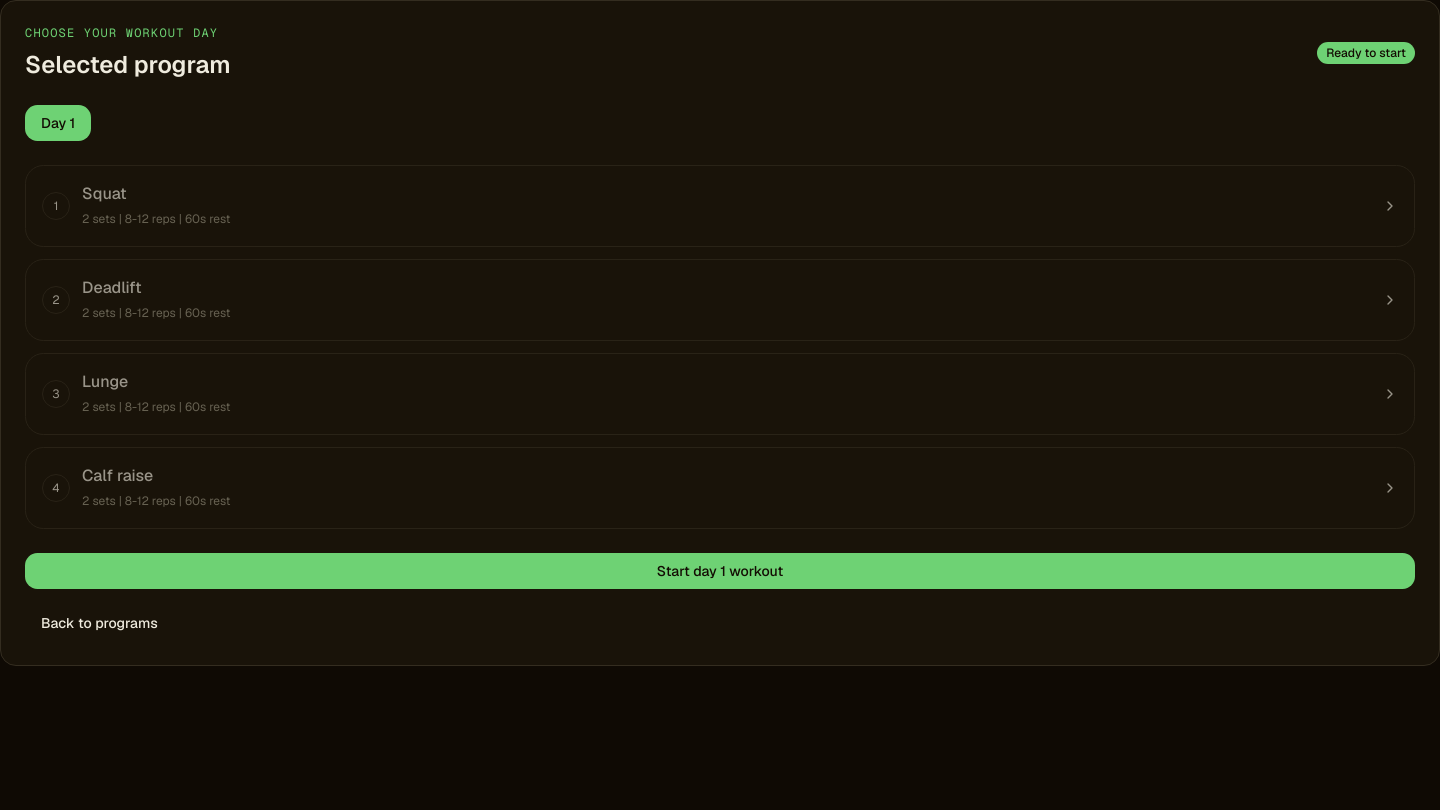
Test: workout interaction › keeps the session active after a failed finish and allows retrying
Later steps or results of the test are not shown.
Click the button "Start day 1 workout" at (720, 571), box [25,553,1415,589]
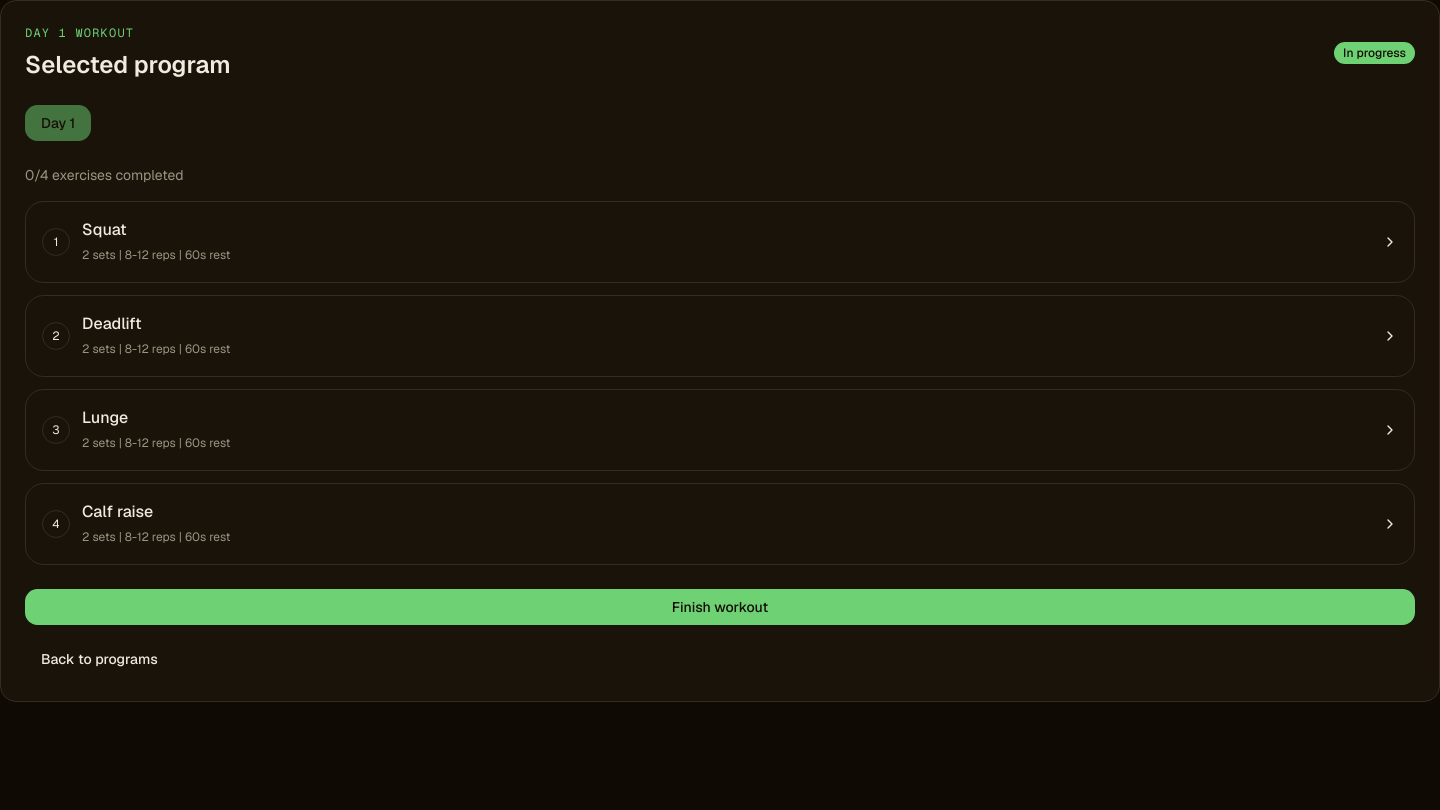
Click the button "Finish workout" at (720, 607), box [25,589,1415,625]
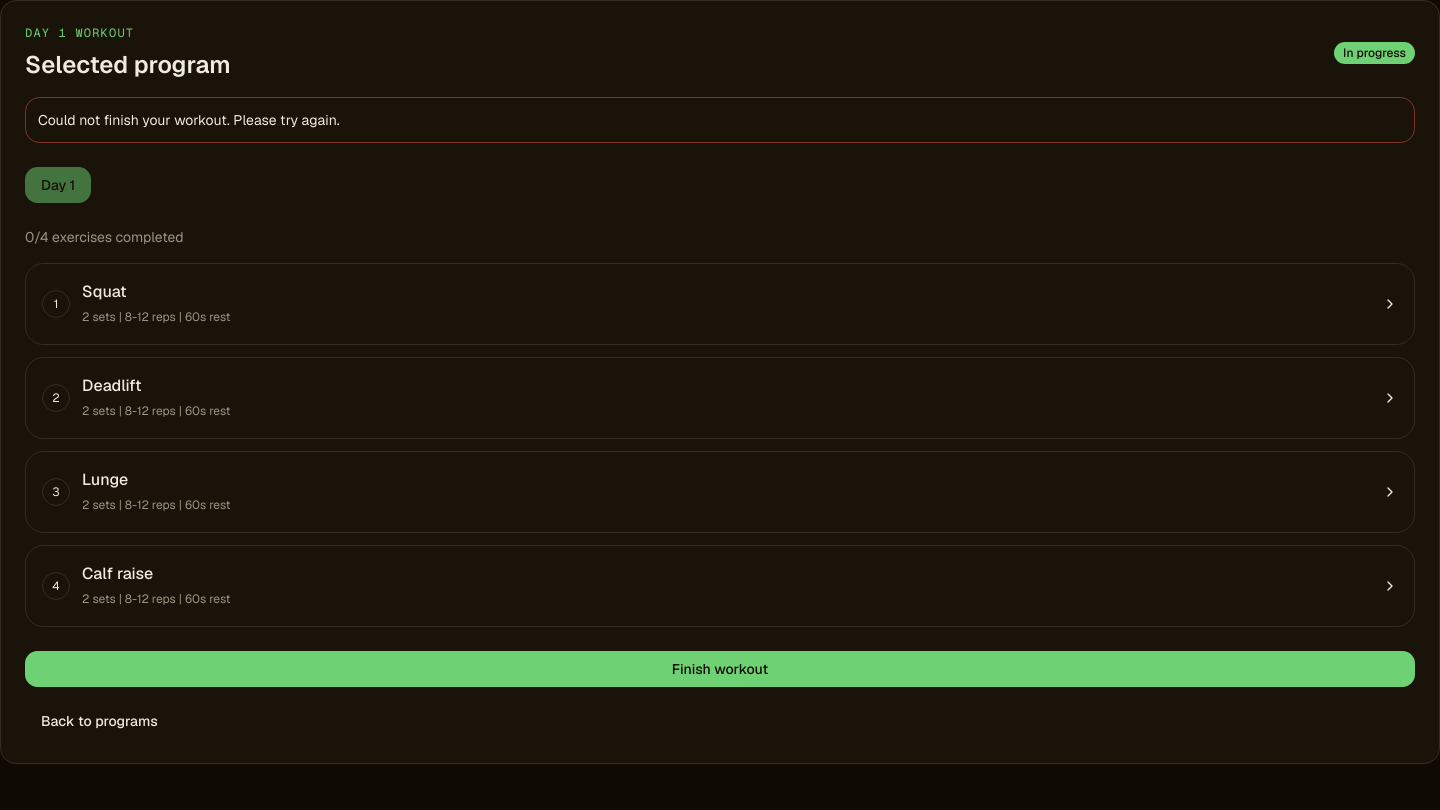
Expected: the button "Finish workout" is enabled, [25,651,1415,687]
Expected: the message "Could not finish your workout. Please try again." is shown, [25,97,1415,143]
